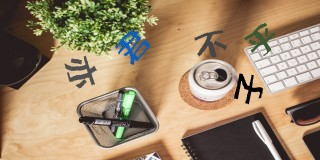不: (193, 30, 227, 58)
乎: (244, 23, 275, 55)
亦: (63, 54, 97, 90)
君: (115, 30, 150, 64)
子: (233, 73, 263, 105)
